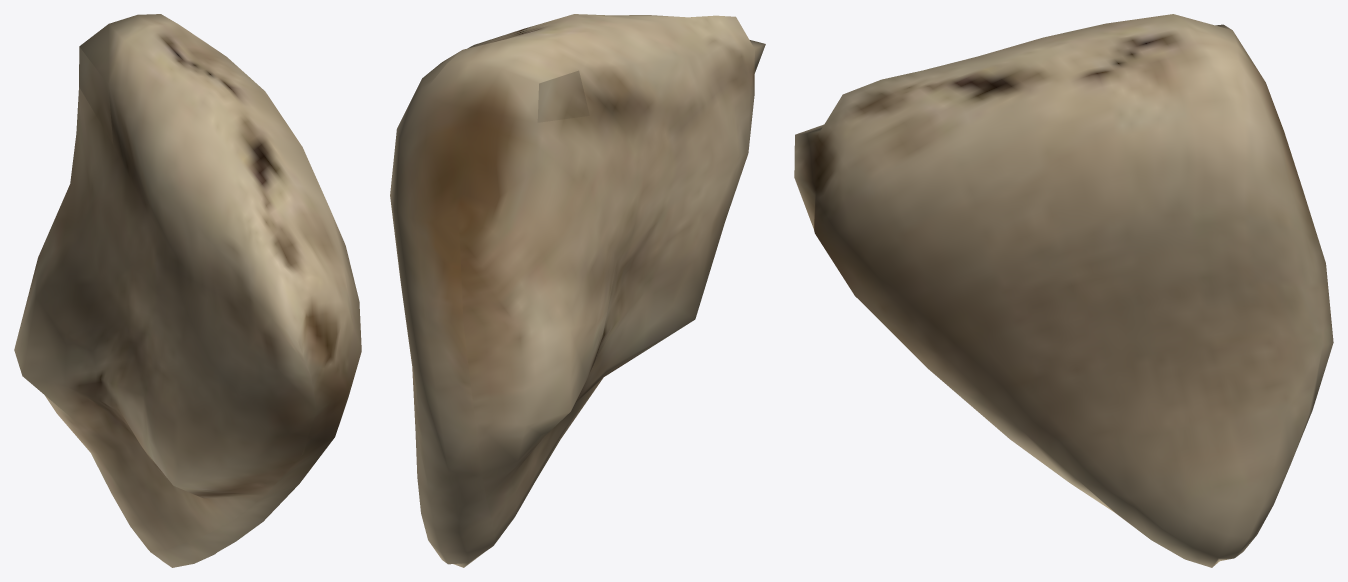
File: Mandibular_Molar.glb
The picture shows the model from 3 angles, left to right: view 1: azimuth 30°, elevation 25°; view 2: azimuth 150°, elevation 25°; view 3: azimuth 270°, elevation 25°; orthographic projection. The views are drawn at different scales.
Visible parts, largest first — view 1: Molar; view 2: Molar; view 3: Molar.
Part boxes in pixels (x1=…): Molar: x1=14, y1=14, x2=361, y2=567; Molar: x1=390, y1=14, x2=765, y2=567; Molar: x1=794, y1=14, x2=1333, y2=567.
Size of the model in its own units: 0.0131 by 0.0351 by 0.033.
1 material, 1 textured.
